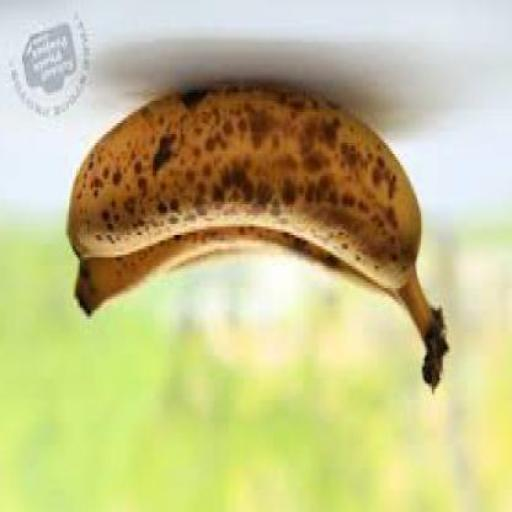biodegradable: (72, 87, 450, 392), (76, 229, 432, 338)
